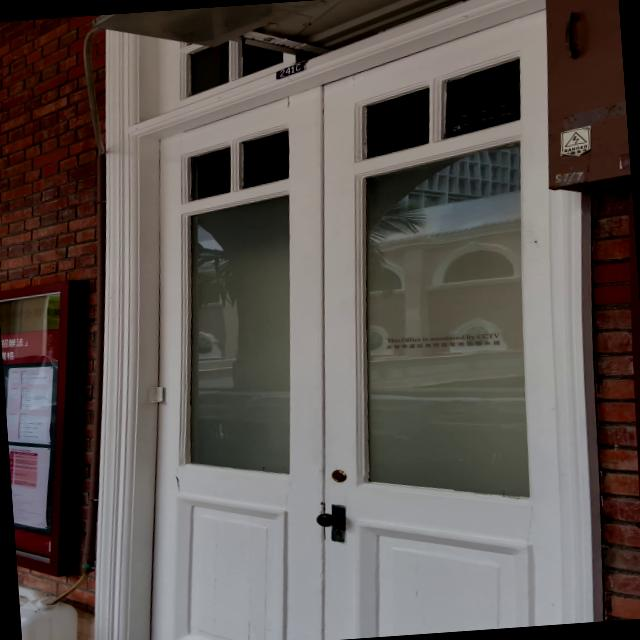room241c: (268, 60, 308, 81)
